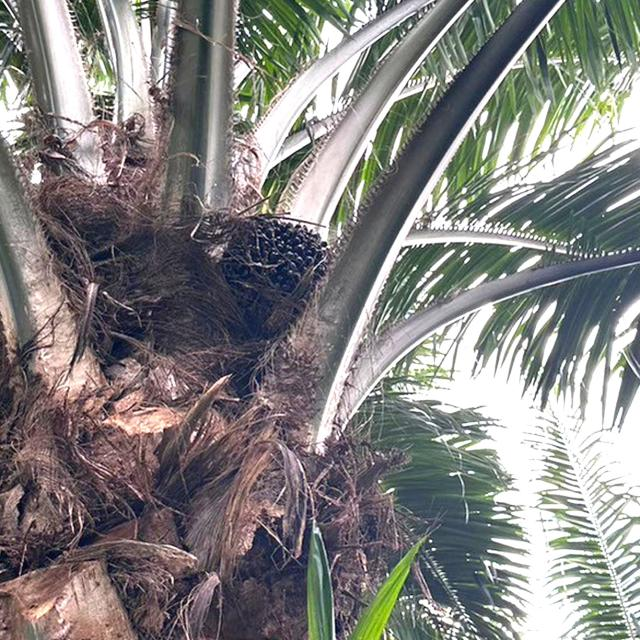unripe: (198, 198, 336, 347)
